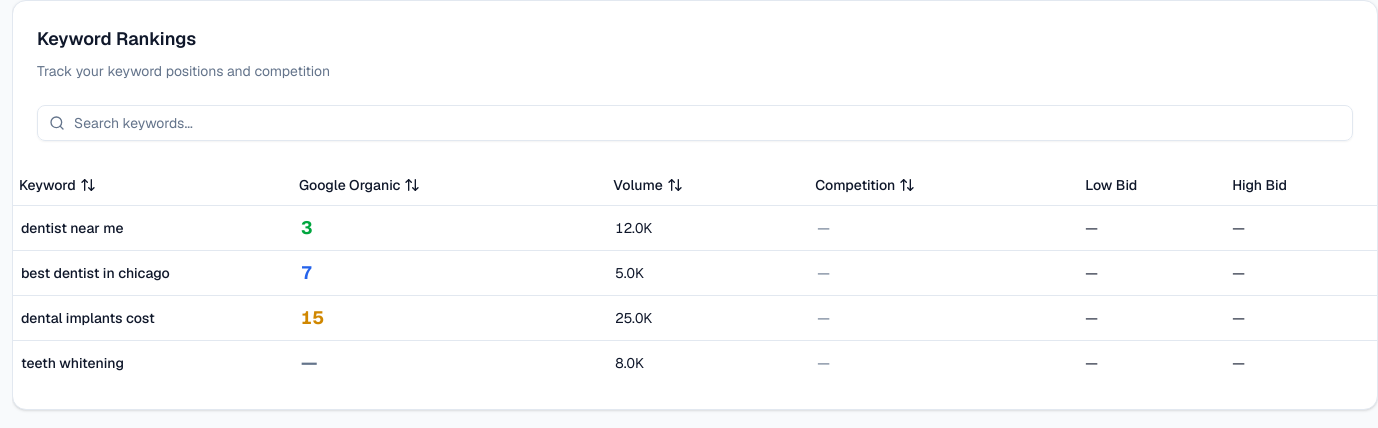
Scenario: KeywordTable › sorting › toggles sort direction when clicking column header
Step 1. Click the button "Volume" → [648, 185], box [603,169,693,201]
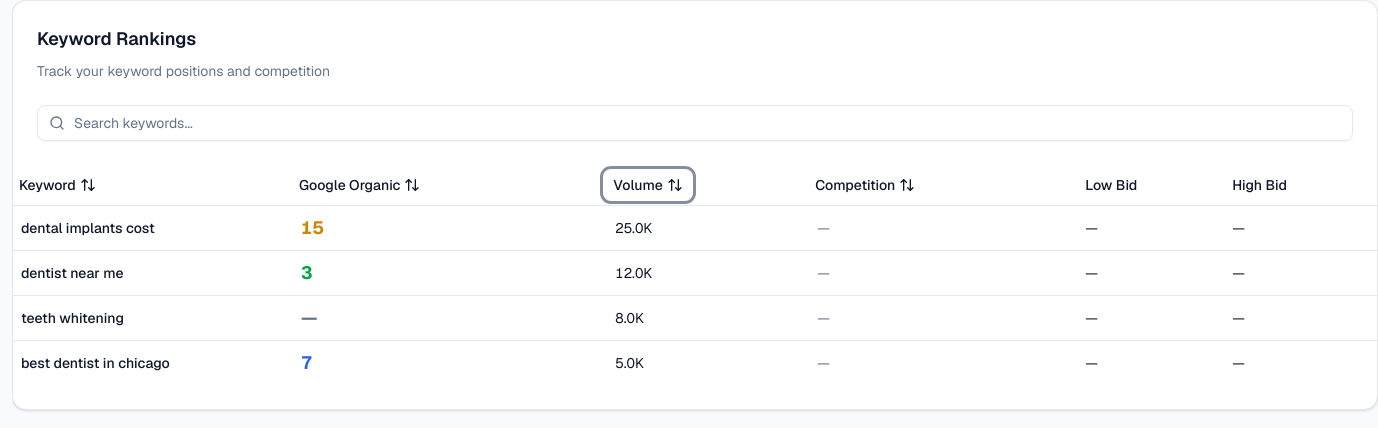
Now the text "dental implants cost" is shown, box [21,218,155,236]
